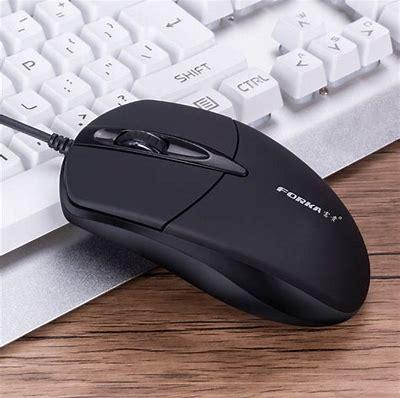computer mouse: (59, 100, 371, 329)
